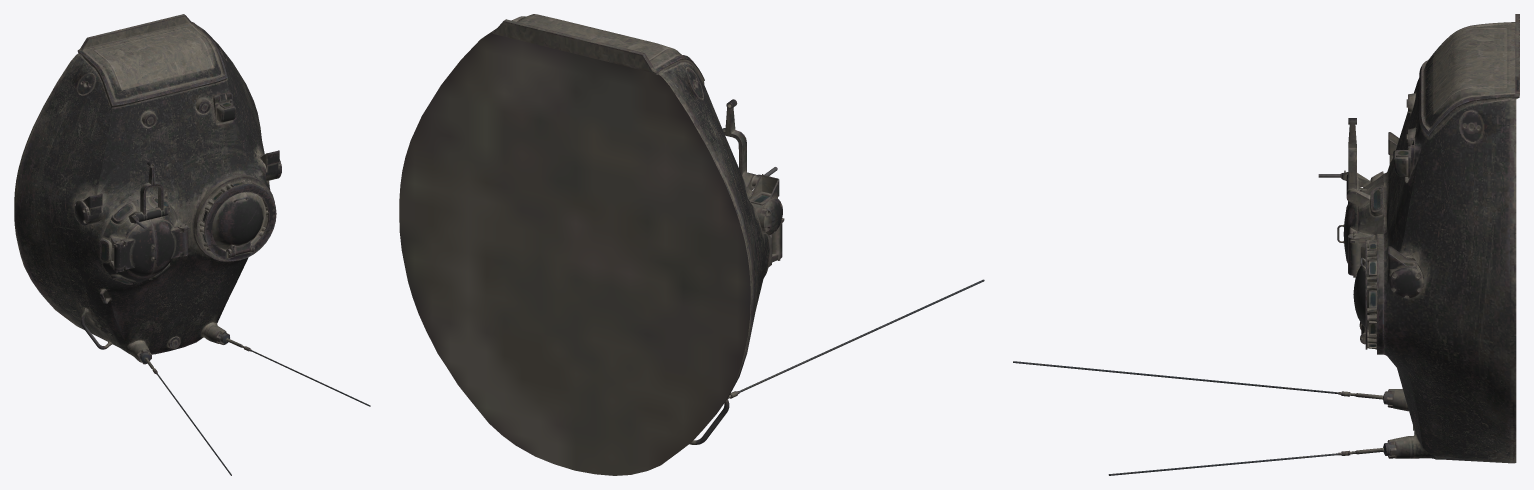
Rendered from Turret_01.glb.
3 views of the same model, side by side, from view 1: azimuth 30°, elevation 25°; view 2: azimuth 150°, elevation 25°; view 3: azimuth 270°, elevation 25° (orthographic). The views are drawn at different scales.
Visible parts, largest first — view 1: set_0_group_0; view 2: set_0_group_0; view 3: set_0_group_0.
Boxes of the visible parts, x1=… form: set_0_group_0: x1=14, y1=14, x2=370, y2=475; set_0_group_0: x1=399, y1=14, x2=984, y2=475; set_0_group_0: x1=1013, y1=14, x2=1519, y2=475.
Size of the model in its own units: 2.3 by 2.71 by 3.11.
Materials: 1 (1 with a texture image).
